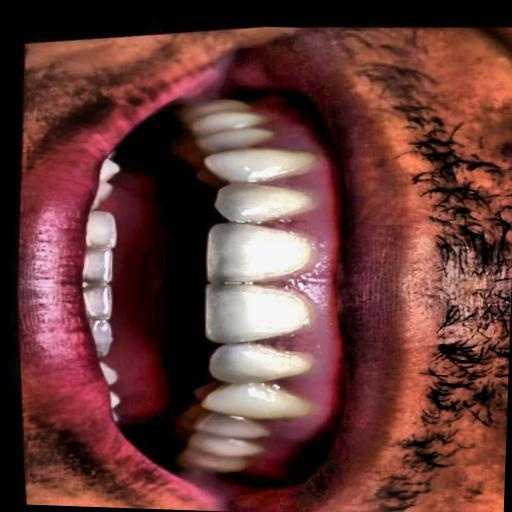Healthy: (42, 52, 346, 471)
